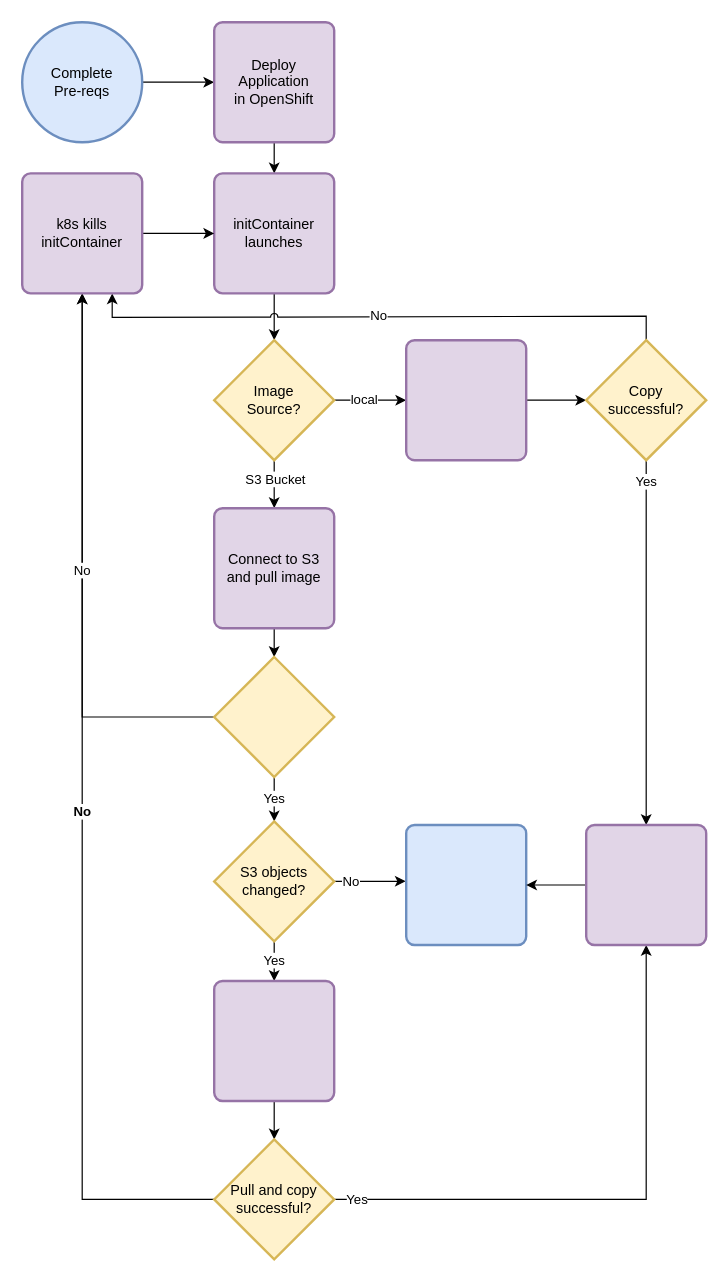
Some shapes in this 727 by 1280 pixel diagram are drawn without their labels. The box of each missing label's shape, as (x1, y1, x2, y2) in pixels:
Connection Successful?: (212, 655, 335, 778)
copy files from initContainer to destination directory: (404, 338, 527, 461)
initContainer Terminates: (584, 823, 707, 946)
Launch Application: (404, 823, 527, 946)
Pull images from S3 and save in mounted PV: (212, 979, 335, 1102)
